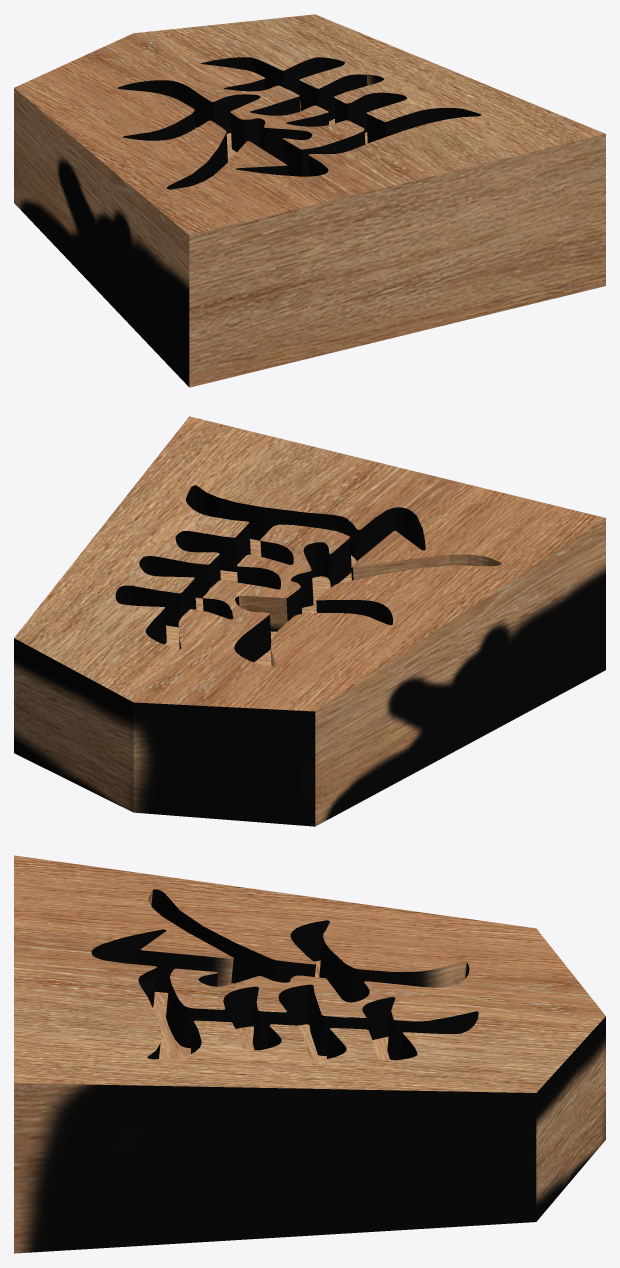
Rendered from Knight.fbx.
The picture shows the model from 3 angles, top to bottom: view 1: azimuth 30°, elevation 25°; view 2: azimuth 150°, elevation 25°; view 3: azimuth 270°, elevation 25°; orthographic projection. The views are drawn at different scales.
Parts seen in each view (by area): view 1: Knight; view 2: Knight; view 3: Knight.
Part boxes in pixels (box(x1,y1,x2,y2)): Knight: box(14, 14, 605, 387); Knight: box(14, 416, 605, 826); Knight: box(14, 855, 605, 1253).
Bounding box in the file's own units: 2336 × 815 × 2566.
